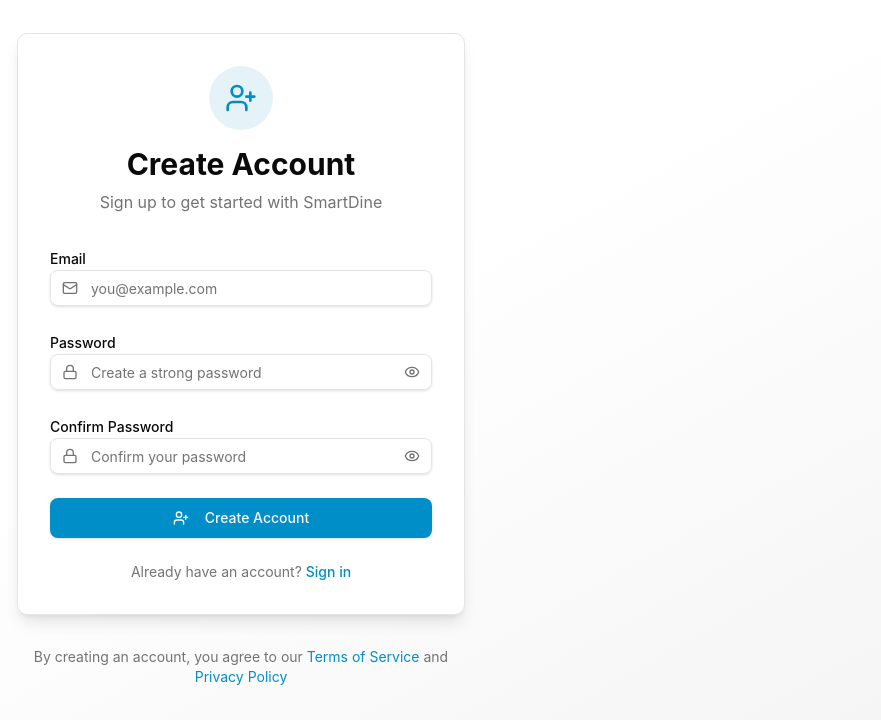
Test case: Register Page Integration › should show weak password strength for simple passwords
Type "password" into the password field with placeholder "Create a strong password" at (241, 372), box [50,354,432,390]
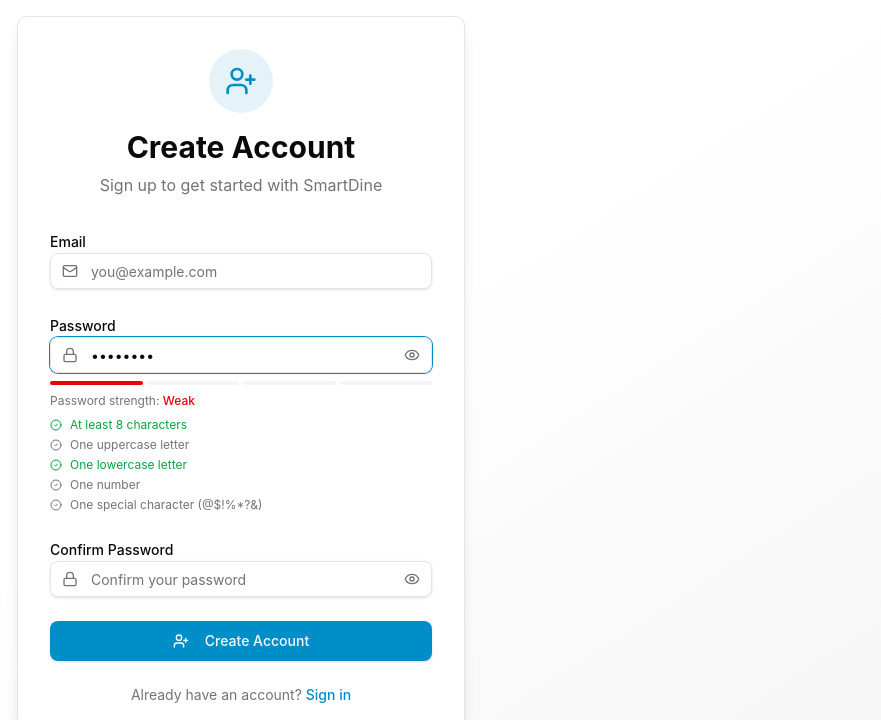
Expected: the text "Password strength: Weak" is shown, [50,393,195,408]
